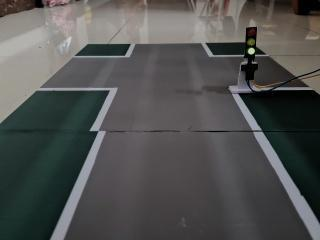green: (239, 24, 269, 66)
